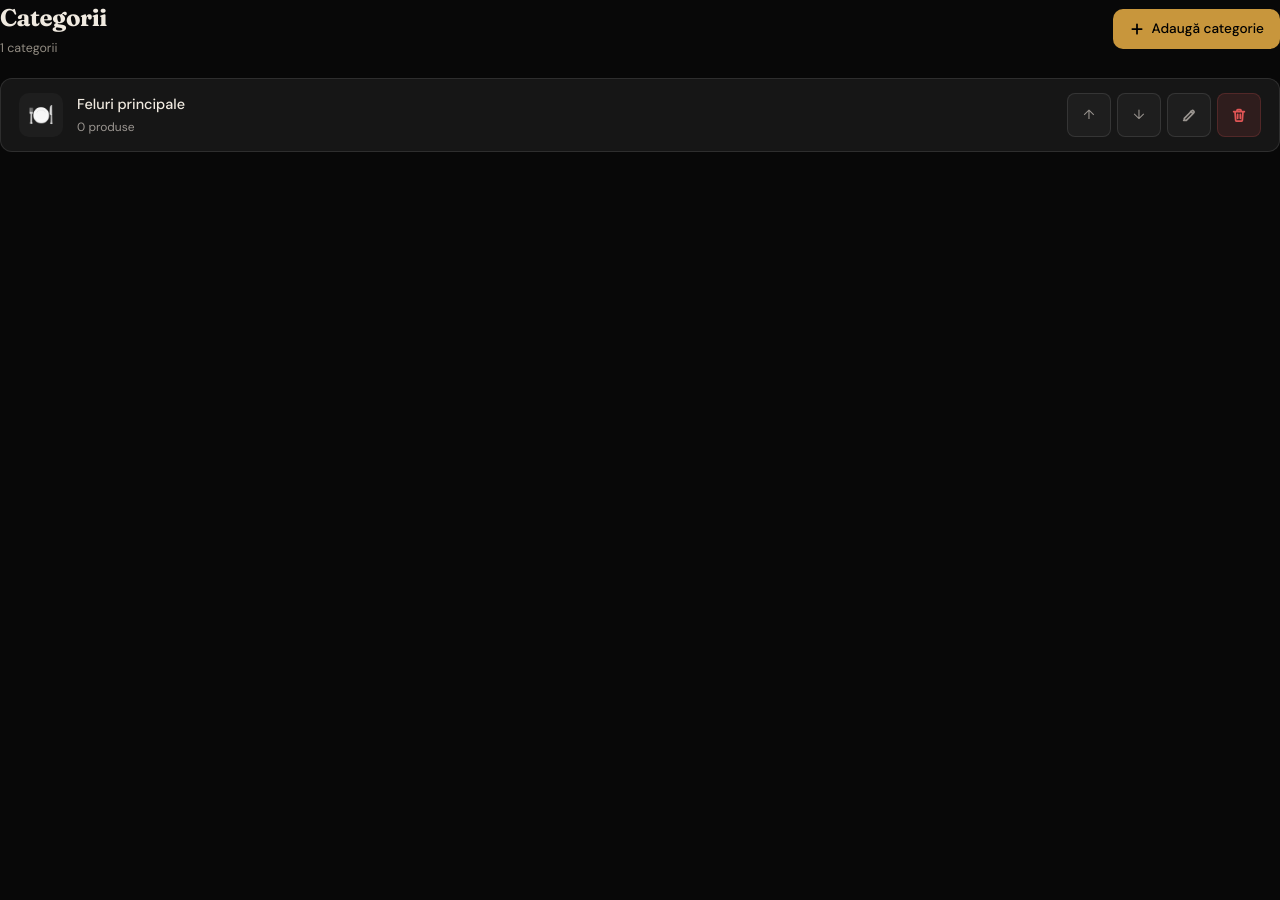
CategoriesTab — traduceri manuale › salvează numele pe limbile active și păstrează limbile neactive
Click the button named "Editează categorie" at (1189, 115), box x1=1167 y1=93 x2=1211 y2=137
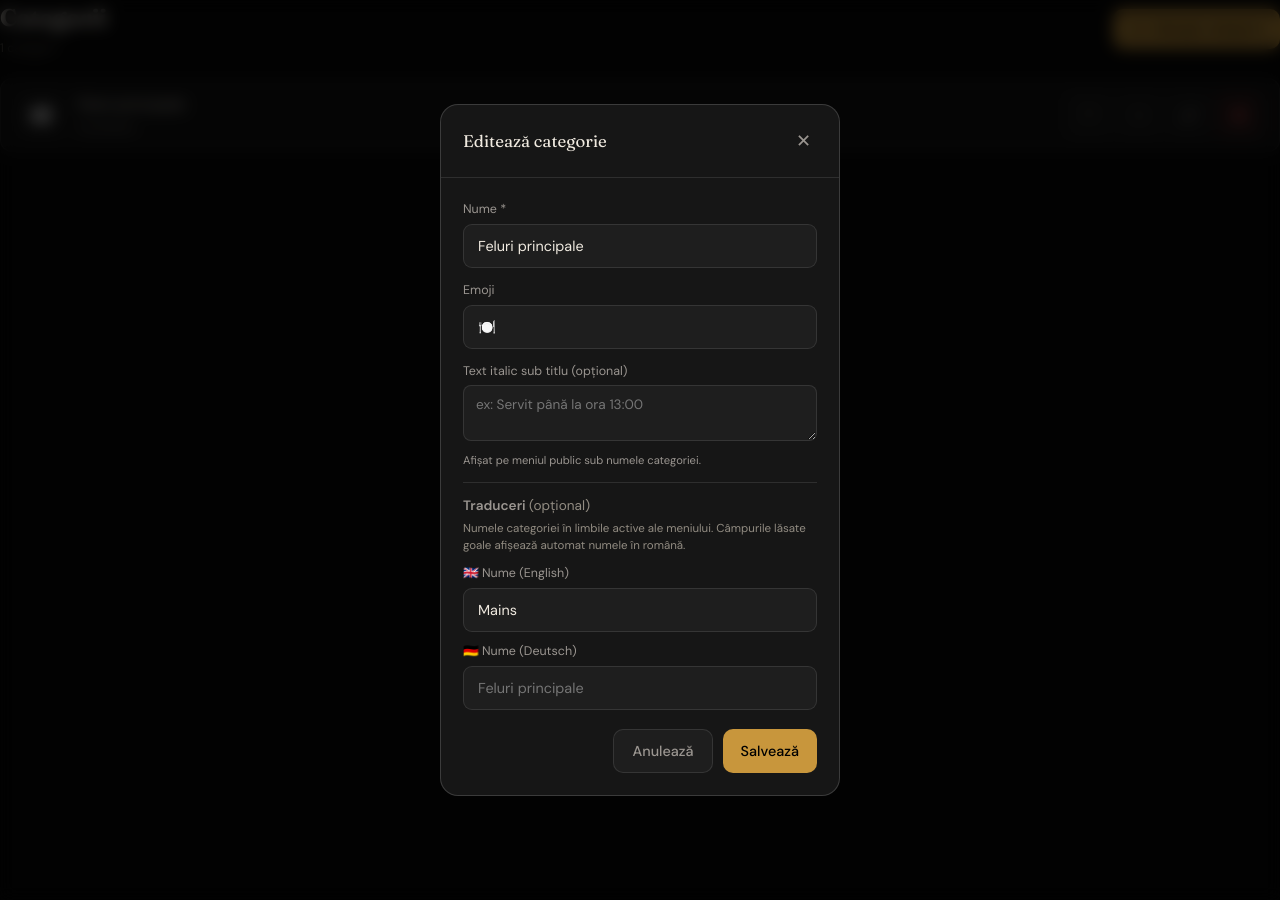
Now the field labelled "🇬🇧 Nume (English)" holds "Mains"
Now the field labelled "🇩🇪 Nume (Deutsch)" is empty, box x1=463 y1=666 x2=817 y2=710
Replace the text in the field labelled "🇬🇧 Nume (English)" with "Main courses" at (640, 610), box x1=463 y1=588 x2=817 y2=632
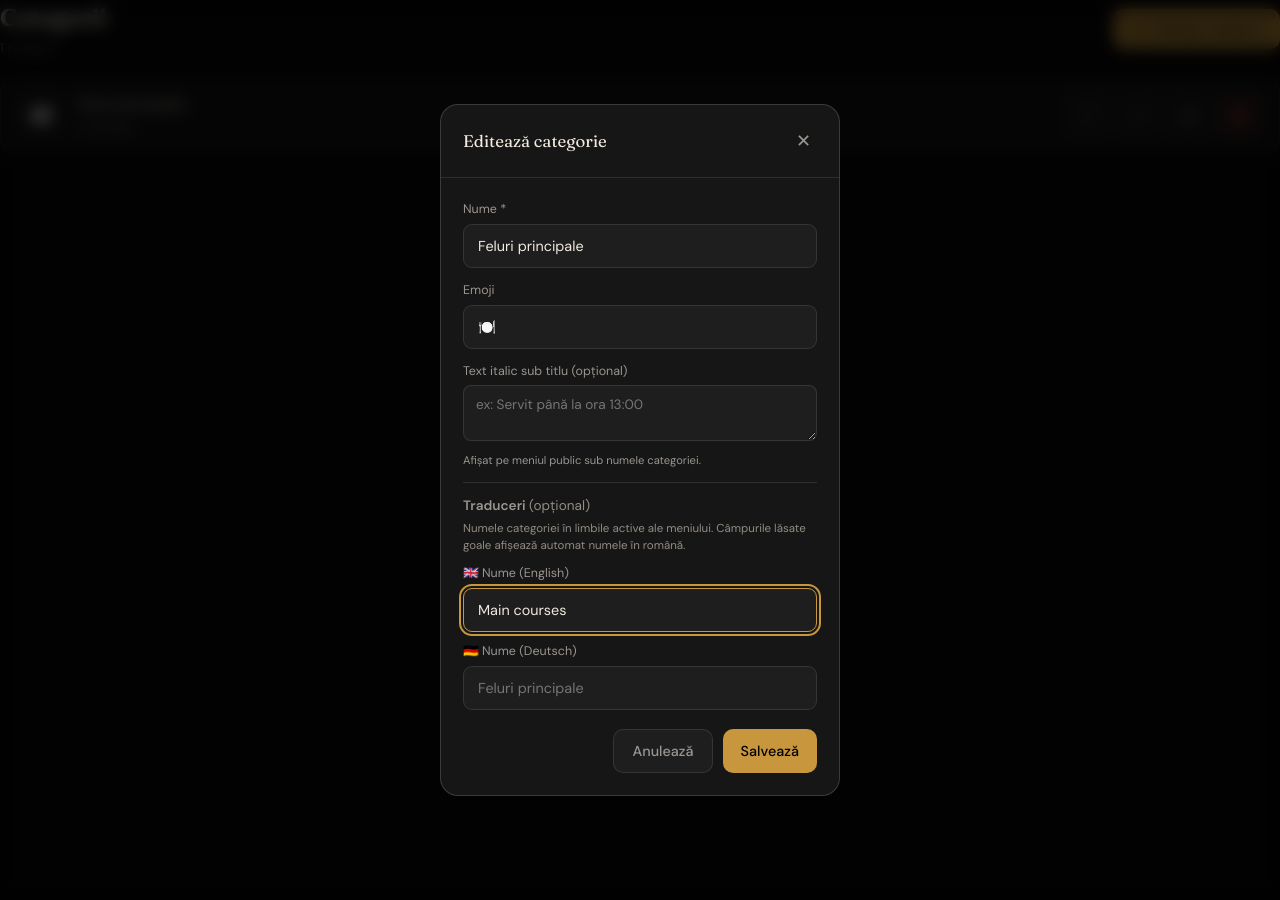
Type "Hauptgerichte" into the field labelled "🇩🇪 Nume (Deutsch)" at (640, 688), box x1=463 y1=666 x2=817 y2=710
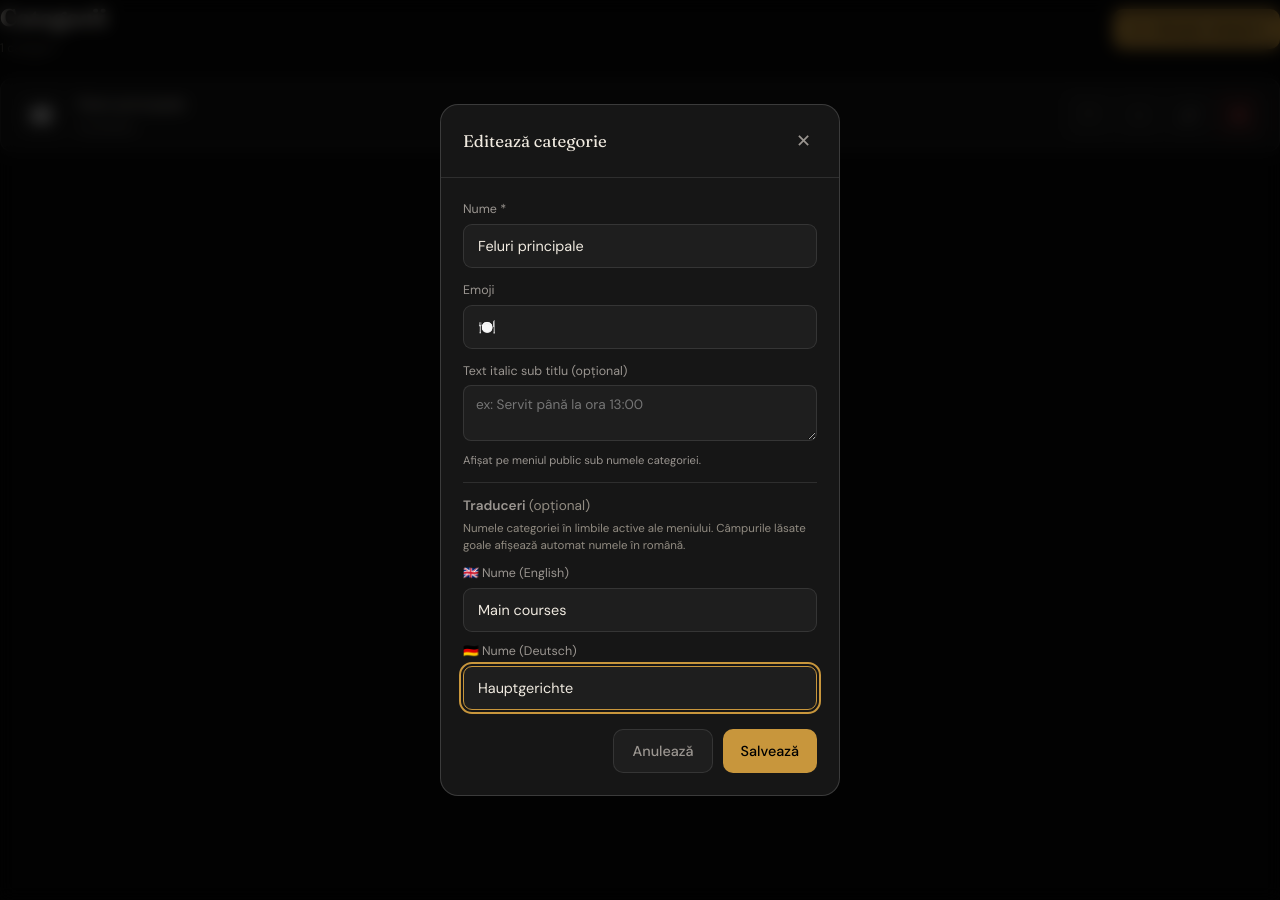
Click the button "Salvează" at (770, 751), box x1=723 y1=729 x2=817 y2=773
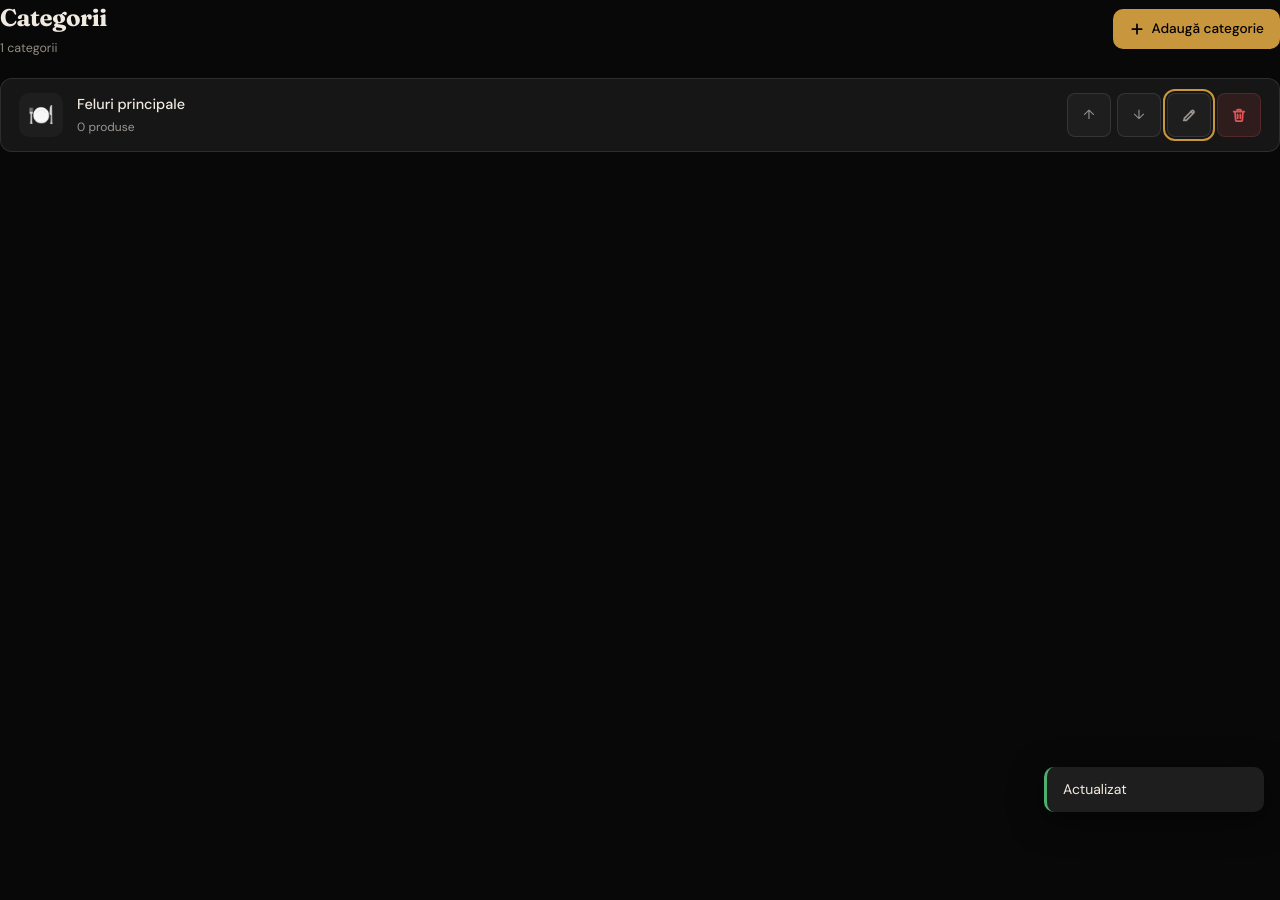
Now the text "Actualizat" is shown, box x1=1044 y1=767 x2=1264 y2=812
